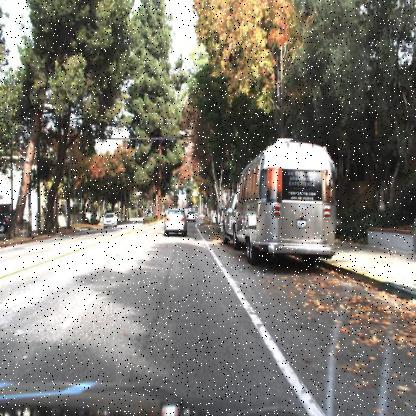car: (156, 200, 190, 242), (100, 208, 119, 230), (183, 203, 198, 224)
truck: (214, 134, 341, 272)
